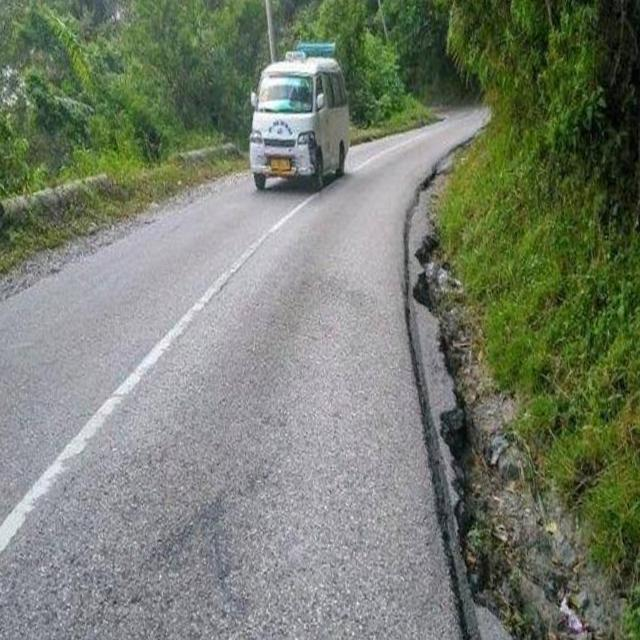Pinggir: (383, 196, 605, 640)
